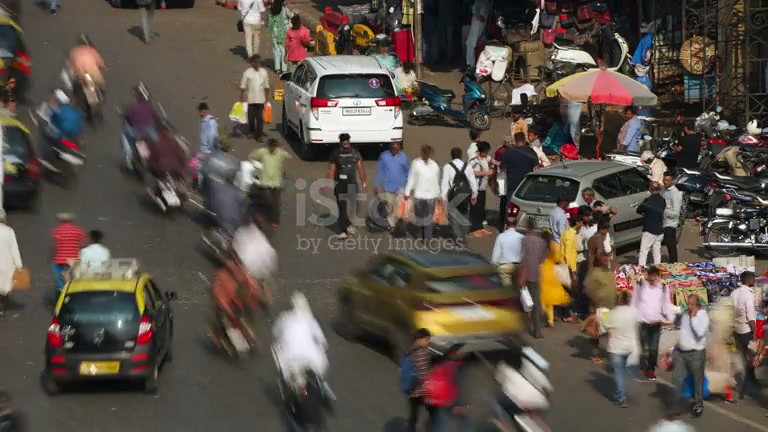car: (331, 244, 532, 362), (40, 260, 176, 397), (506, 157, 654, 256), (280, 53, 405, 160), (0, 120, 42, 211)
motorcycle: (270, 293, 337, 431), (400, 70, 492, 132), (31, 105, 87, 183), (142, 166, 182, 215)
pedestrian: (231, 206, 279, 314), (671, 292, 711, 418), (632, 265, 675, 379), (599, 289, 640, 407), (245, 135, 290, 226), (328, 132, 368, 234), (517, 216, 549, 337), (144, 120, 192, 200), (731, 270, 760, 402), (405, 143, 441, 247), (372, 137, 410, 234), (119, 82, 159, 174), (64, 32, 108, 113), (49, 211, 90, 292), (440, 146, 474, 242), (539, 235, 570, 329), (635, 179, 667, 268), (239, 55, 272, 139), (0, 207, 23, 314), (660, 174, 683, 263), (79, 229, 111, 268)
